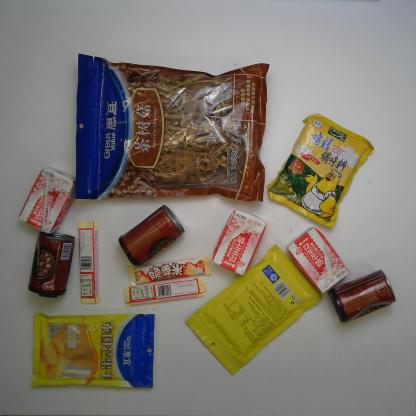Canned Food: (115, 203, 186, 268), (325, 268, 398, 325), (26, 228, 76, 300)
Chocolate: (124, 254, 214, 289), (120, 274, 210, 309), (74, 219, 102, 307)
Dried Food: (71, 50, 272, 204)
Dried Fruit: (182, 240, 326, 379), (29, 309, 156, 390)
Milk: (284, 225, 351, 297), (16, 164, 78, 236), (210, 206, 268, 277)
Seasoner: (266, 110, 376, 230)
